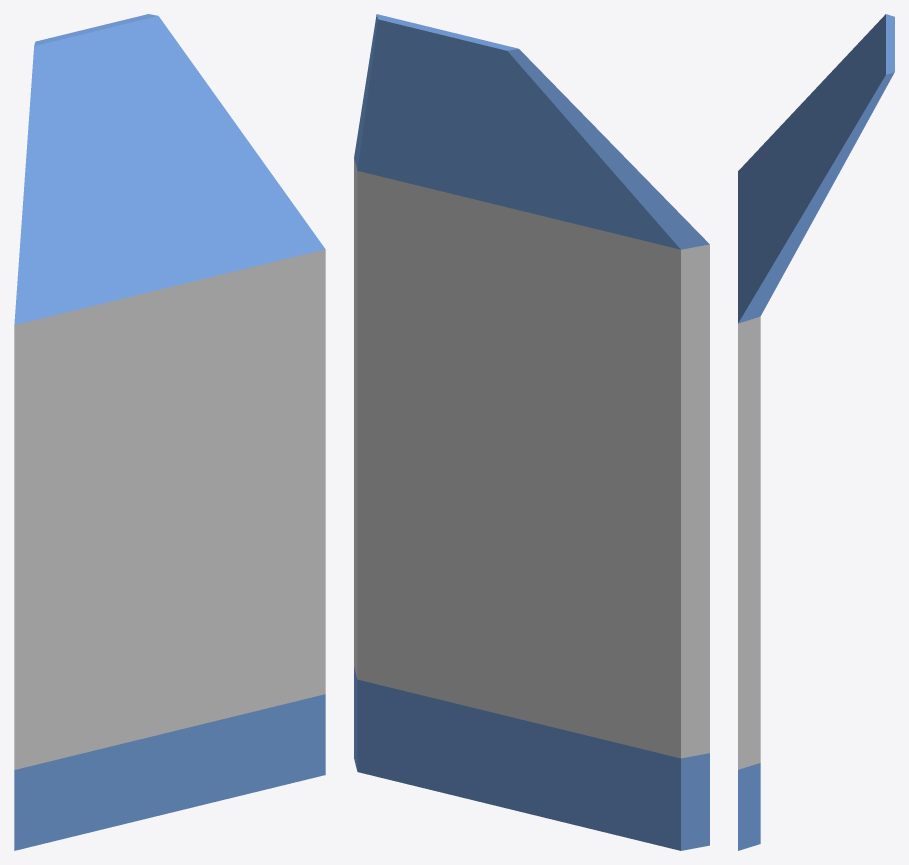
The model's file is Droppod Wing.fbx.
The picture shows the model from 3 angles, left to right: view 1: azimuth 30°, elevation 25°; view 2: azimuth 150°, elevation 25°; view 3: azimuth 270°, elevation 25°; orthographic projection. The views are drawn at different scales.
Visible parts, largest first — view 1: Cylinder; view 2: Cylinder; view 3: Cylinder.
Part boxes in pixels (x1=…): Cylinder: x1=14, y1=14, x2=325, y2=850; Cylinder: x1=354, y1=14, x2=709, y2=850; Cylinder: x1=738, y1=14, x2=894, y2=850.
Size of the model in its own units: 80.53 by 180 by 35.
